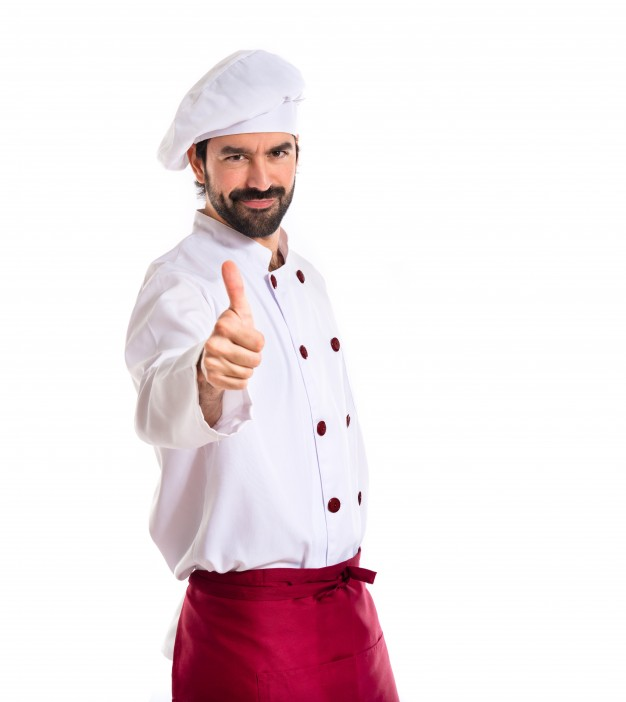thumbsup: (201, 260, 264, 391)
